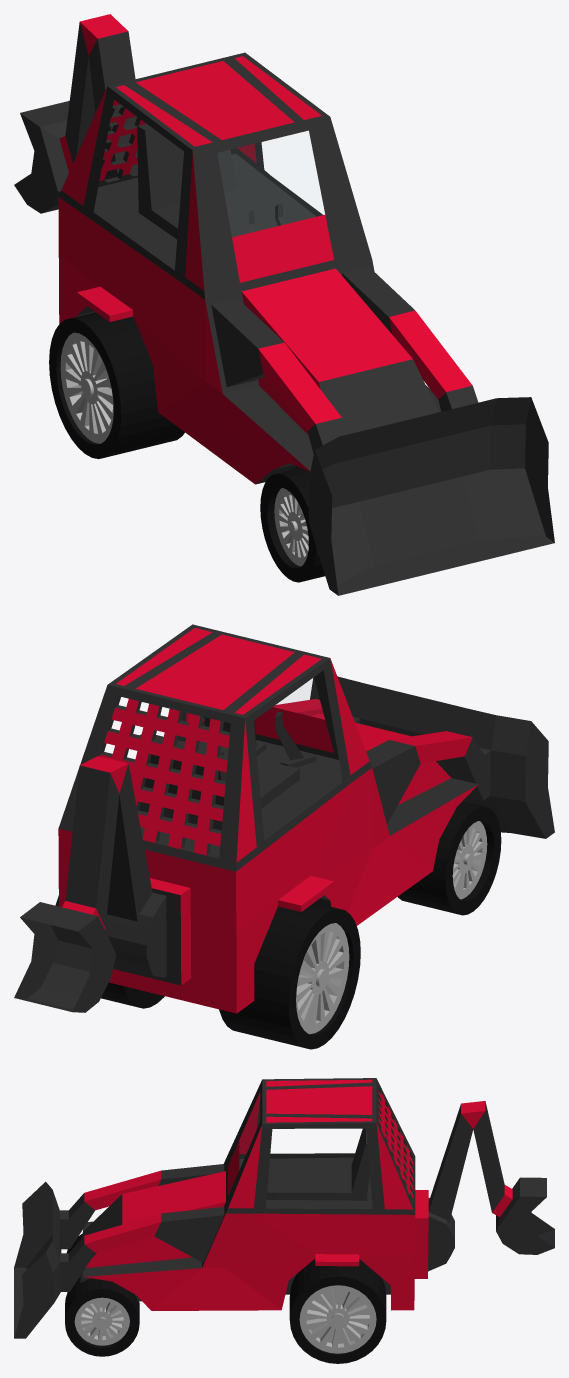
The model's file is tractopelle3.fbx.
The picture shows the model from 3 angles, top to bottom: view 1: azimuth 30°, elevation 25°; view 2: azimuth 150°, elevation 25°; view 3: azimuth 270°, elevation 25°; orthographic projection. The views are drawn at different scales.
Parts seen in each view (by area): view 1: Tractopelle, RouesArriere, Cube, RoueAvantD; view 2: Tractopelle, Cube, RouesArriere, RoueAvantD; view 3: Tractopelle, RouesArriere, Cube, RoueAvantG.
Boxes of the visible parts, bbox=[...] form: Tractopelle: bbox=[58, 52, 554, 595]; RouesArriere: bbox=[49, 312, 184, 458]; Cube: bbox=[14, 14, 137, 213]; RoueAvantD: bbox=[260, 468, 325, 582]; Tractopelle: bbox=[58, 624, 554, 1013]; Cube: bbox=[14, 756, 152, 1012]; RouesArriere: bbox=[55, 895, 360, 1049]; RoueAvantD: bbox=[398, 801, 501, 915]; Tractopelle: bbox=[14, 1078, 454, 1338]; RouesArriere: bbox=[289, 1259, 386, 1363]; Cube: bbox=[428, 1101, 554, 1254]; RoueAvantG: bbox=[65, 1278, 139, 1356].
Bounding box in the file's own units: 616 × 827 × 1796.
